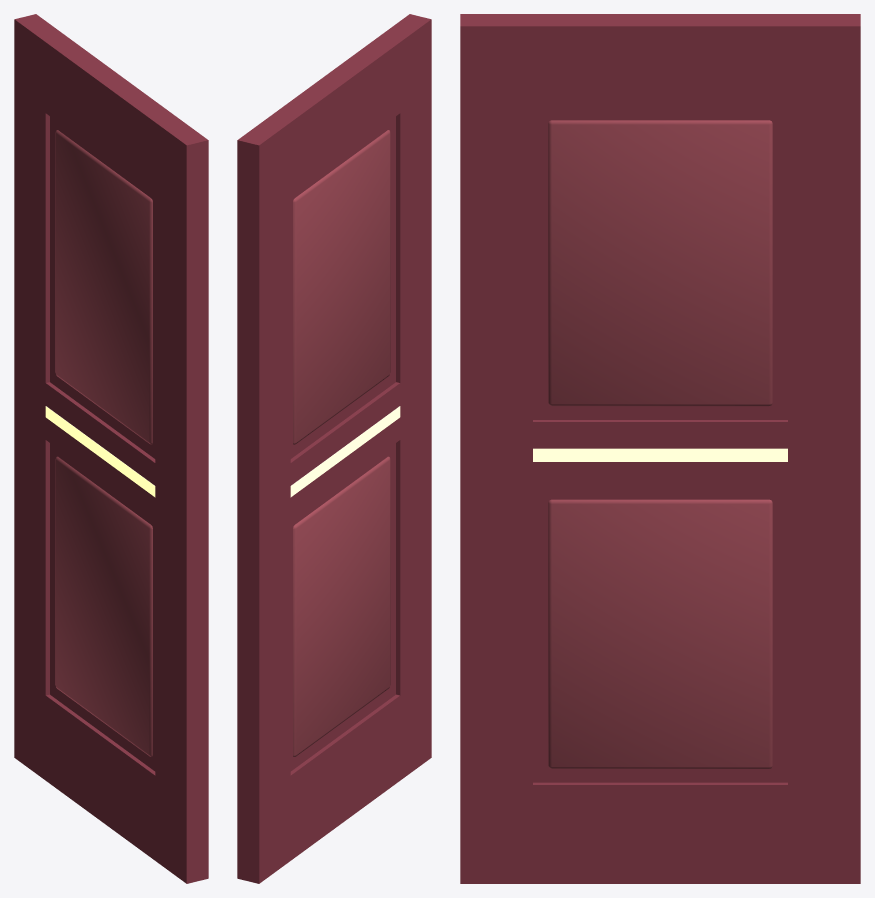
File: bb_set_frontdoor_leaf.fbx
3 renders of one model, left to right at view 1: azimuth 30°, elevation 25°; view 2: azimuth 150°, elevation 25°; view 3: azimuth 270°, elevation 25°, orthographic. The views are drawn at different scales.
Visible parts, largest first — view 1: bb_set_frontdoor_leaf; view 2: bb_set_frontdoor_leaf; view 3: bb_set_frontdoor_leaf.
Boxes of the visible parts, x1,y1,x2,y2 form: bb_set_frontdoor_leaf: (14,14,208,883); bb_set_frontdoor_leaf: (237,14,431,883); bb_set_frontdoor_leaf: (460,14,860,883).
Size of the model in its own units: 0.082 by 2.6 by 1.1.
